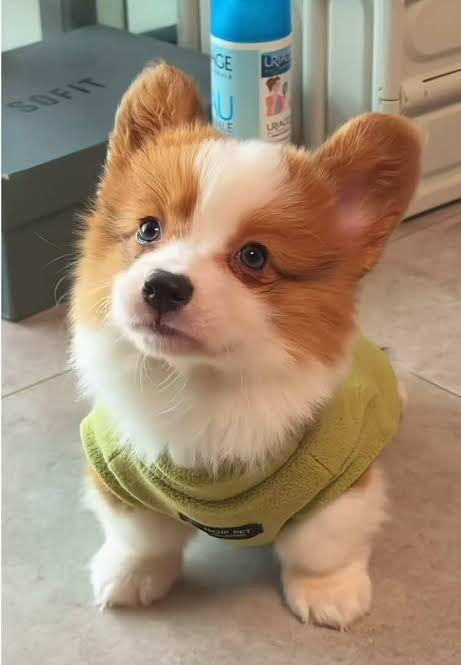puppy-dog: (62, 57, 428, 632)
